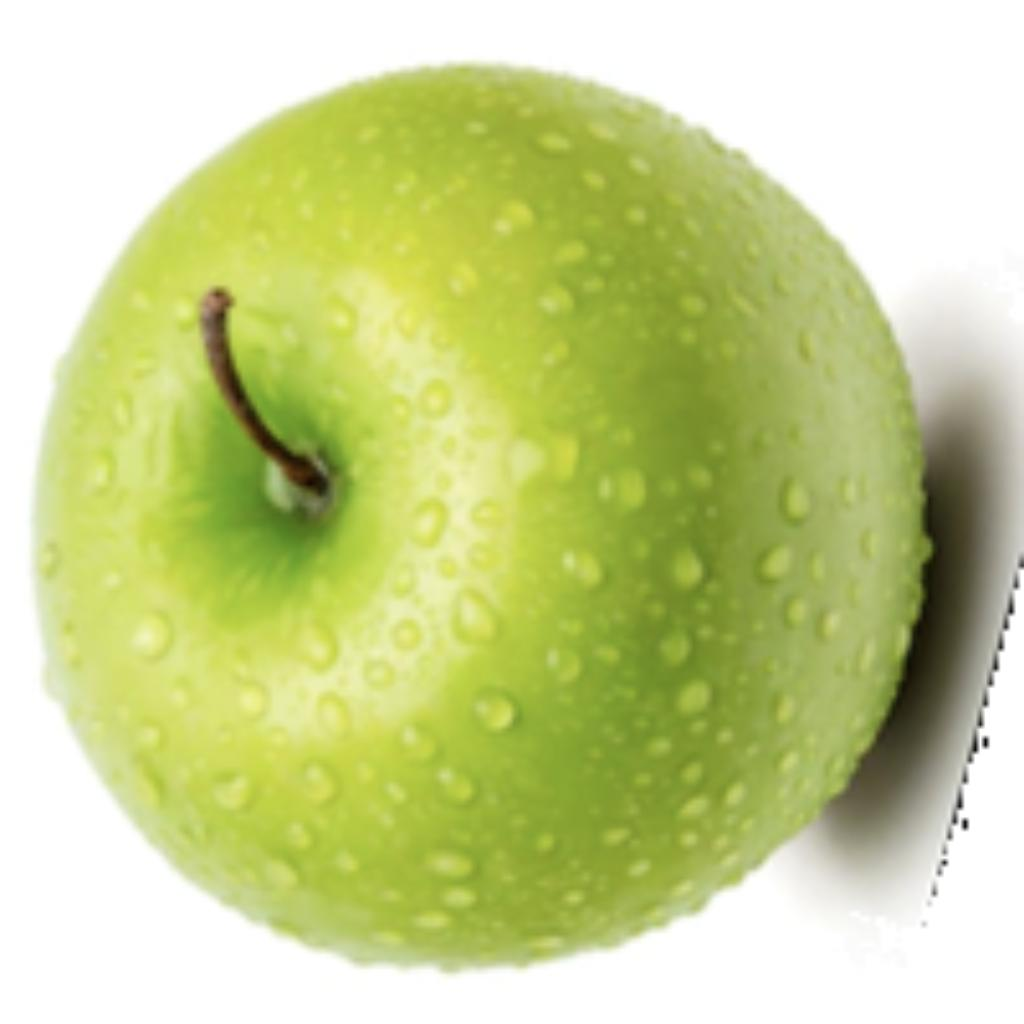apple: (20, 56, 1019, 978)
